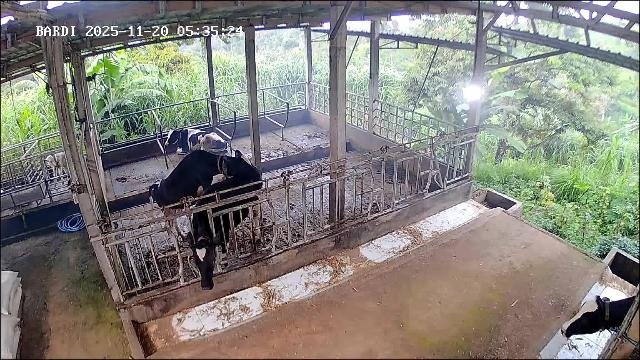mounting: (157, 150, 261, 248)
